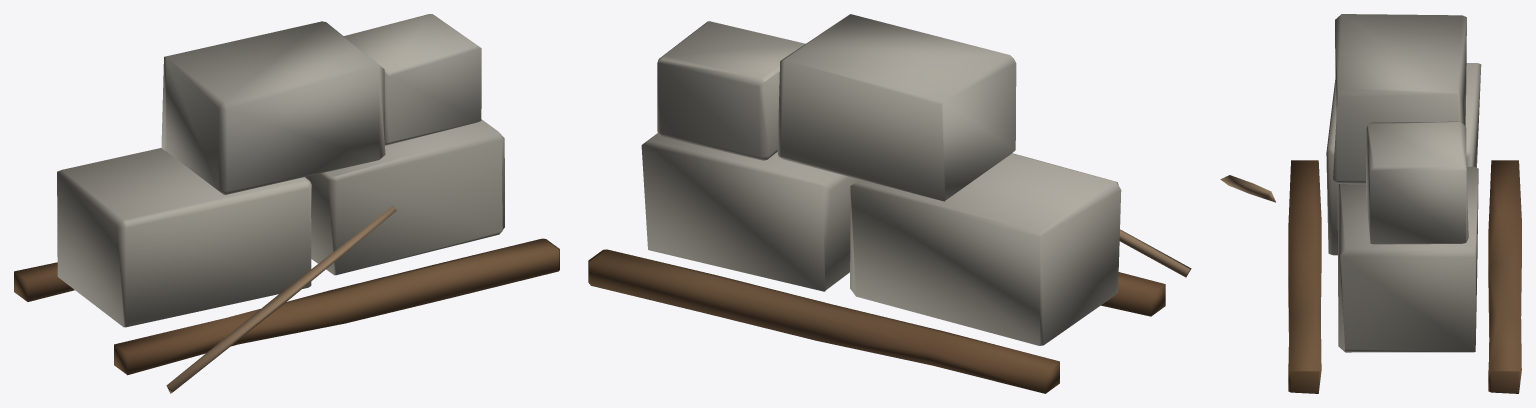
File: build_stone-blocks_t1.glb
3 views of the same model, side by side, from view 1: azimuth 30°, elevation 25°; view 2: azimuth 150°, elevation 25°; view 3: azimuth 270°, elevation 25° (orthographic). The views are drawn at different scales.
Parts seen in each view (by area): view 1: marble, wood_dark, wood; view 2: marble, wood_dark, wood; view 3: marble, wood_dark, wood.
Boxes of the visible parts, x1,y1,x2,y2 form: marble: (57,14,504,327); wood_dark: (14,238,559,375); wood: (166,206,396,393); marble: (641,14,1121,345); wood_dark: (588,249,1165,393); wood: (1119,229,1191,277); marble: (1326,14,1481,352); wood_dark: (1288,160,1521,393); wood: (1220,175,1275,202).
Size of the model in its own units: 2.1 by 1.06 by 1.27.
